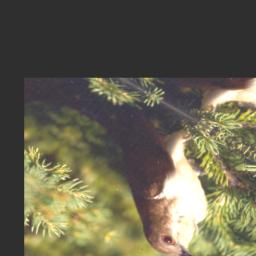Cuckoo: (38, 91, 256, 256)
